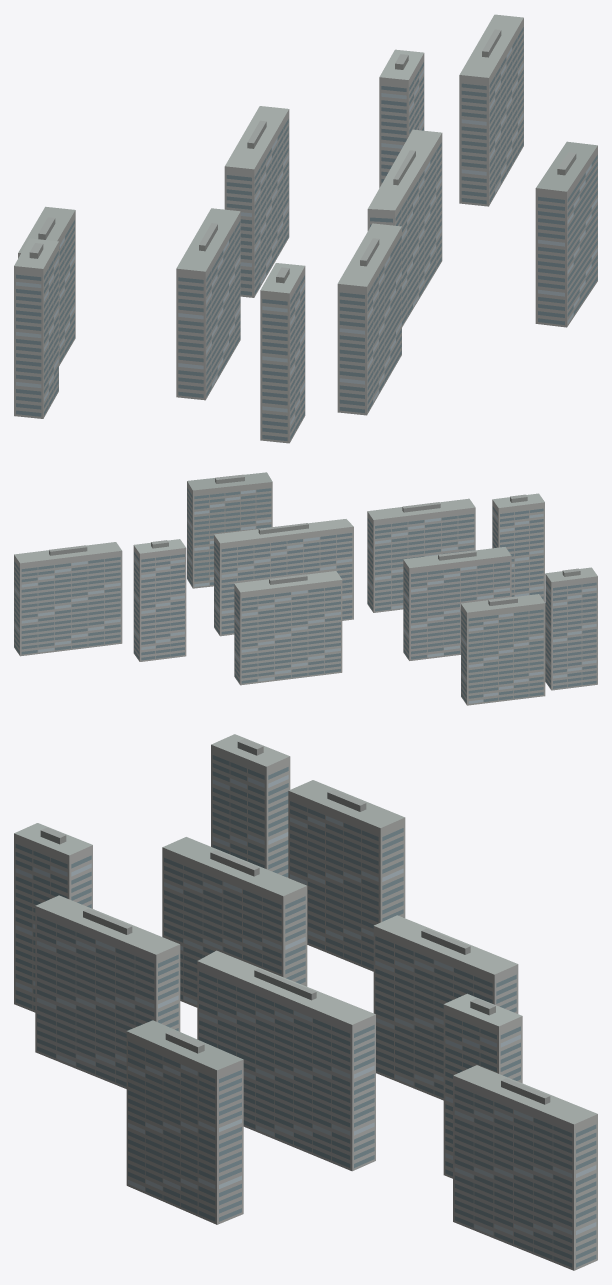
The model's file is apt-a14381415.glb.
The picture shows the model from 3 angles, top to bottom: view 1: azimuth 30°, elevation 25°; view 2: azimuth 150°, elevation 25°; view 3: azimuth 270°, elevation 25°; orthographic projection. The views are drawn at different scales.
Parts seen in each view (by area): view 1: apt-a14381415; view 2: apt-a14381415; view 3: apt-a14381415.
Boxes of the visible parts, left/top/right/bottom form: apt-a14381415: left=14, top=14, right=597, bottom=443; apt-a14381415: left=14, top=472, right=597, bottom=705; apt-a14381415: left=14, top=734, right=597, bottom=1270.
Size of the model in its own units: 294 by 66.45 by 198.
